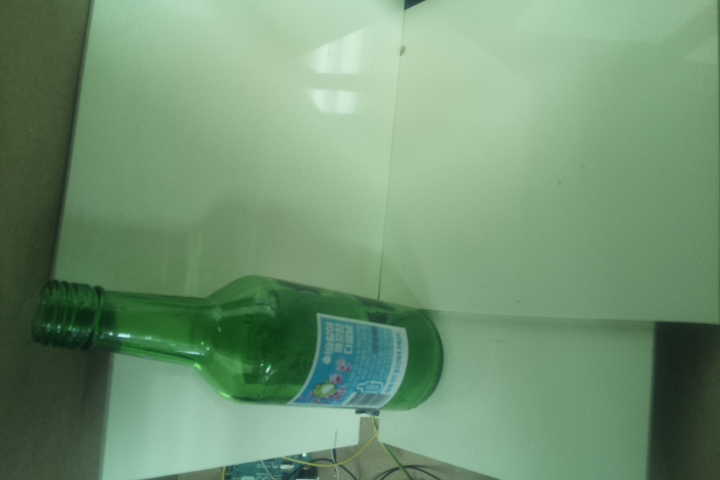soju: (29, 272, 442, 410)
